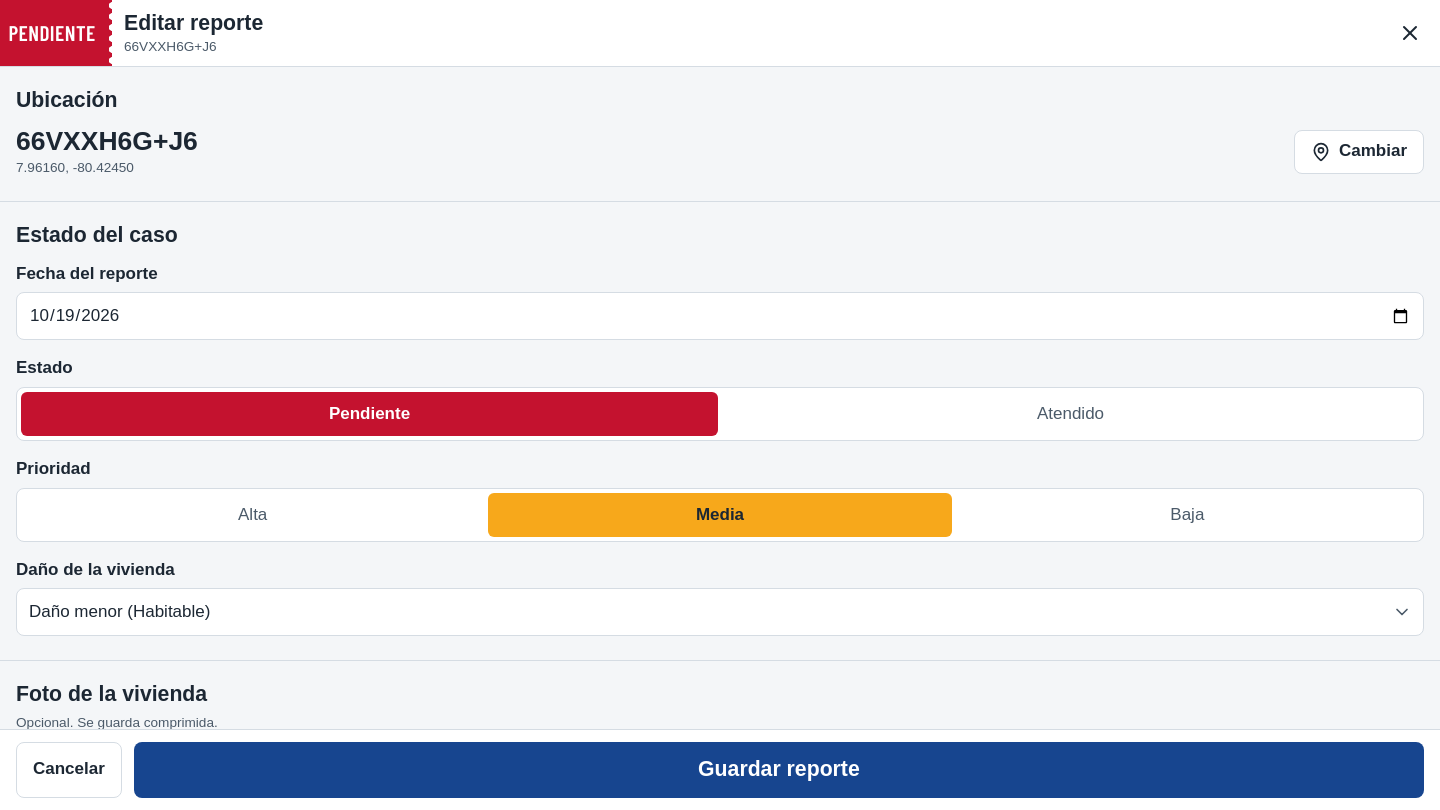
Test: ReportForm: edición › sin cambios: pregunta si guardar de todos modos
Click the button "Guardar reporte". click: (779, 770)
box: [134, 742, 1424, 798]
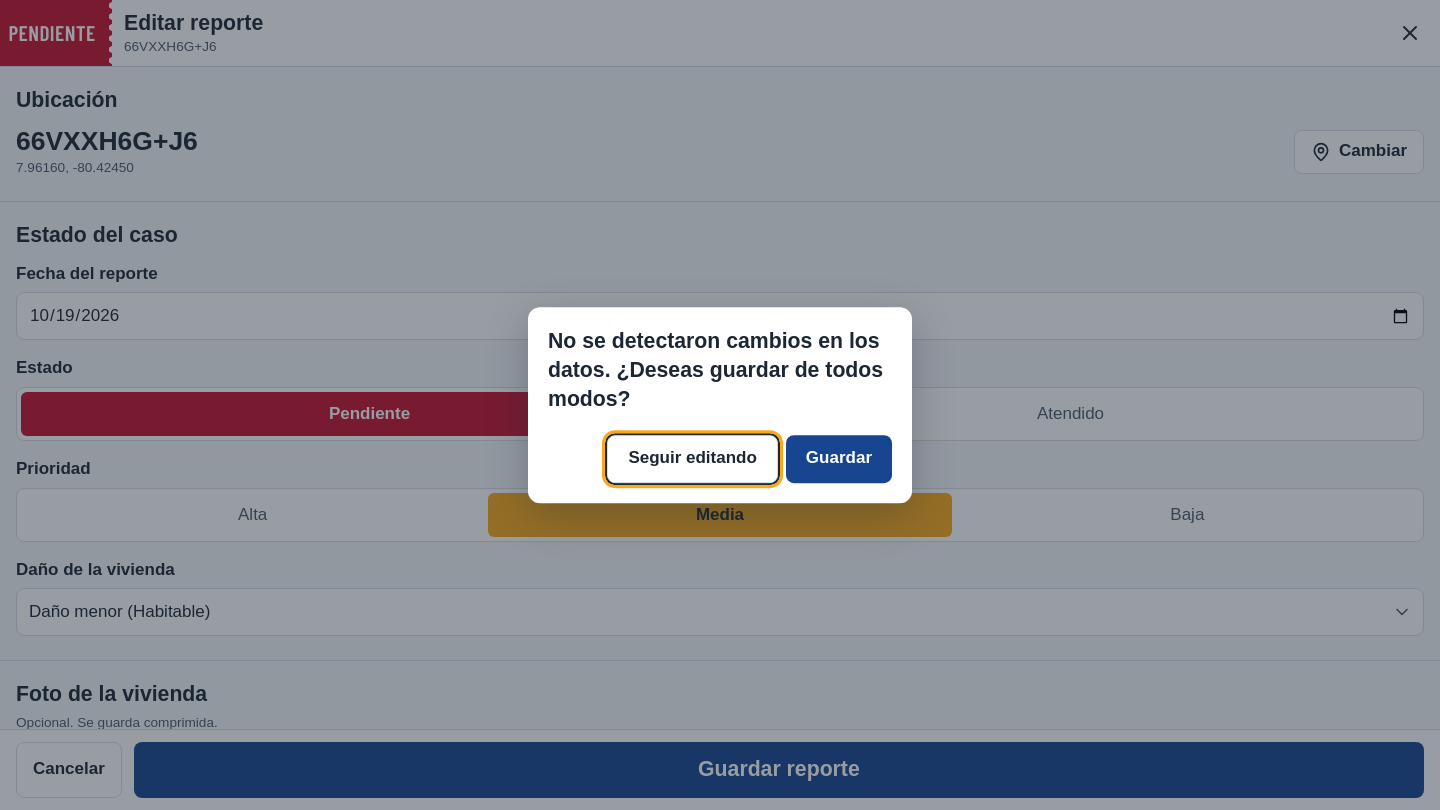
Now the dialog shows "No se detectaron cambios en los datos. ¿Deseas guardar de todos modos?", box [548, 329, 883, 412]
